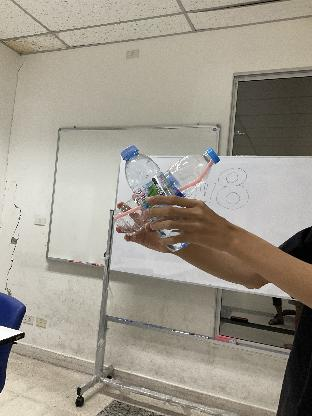Plastic Bottle: (110, 147, 222, 237), (120, 143, 194, 252)
